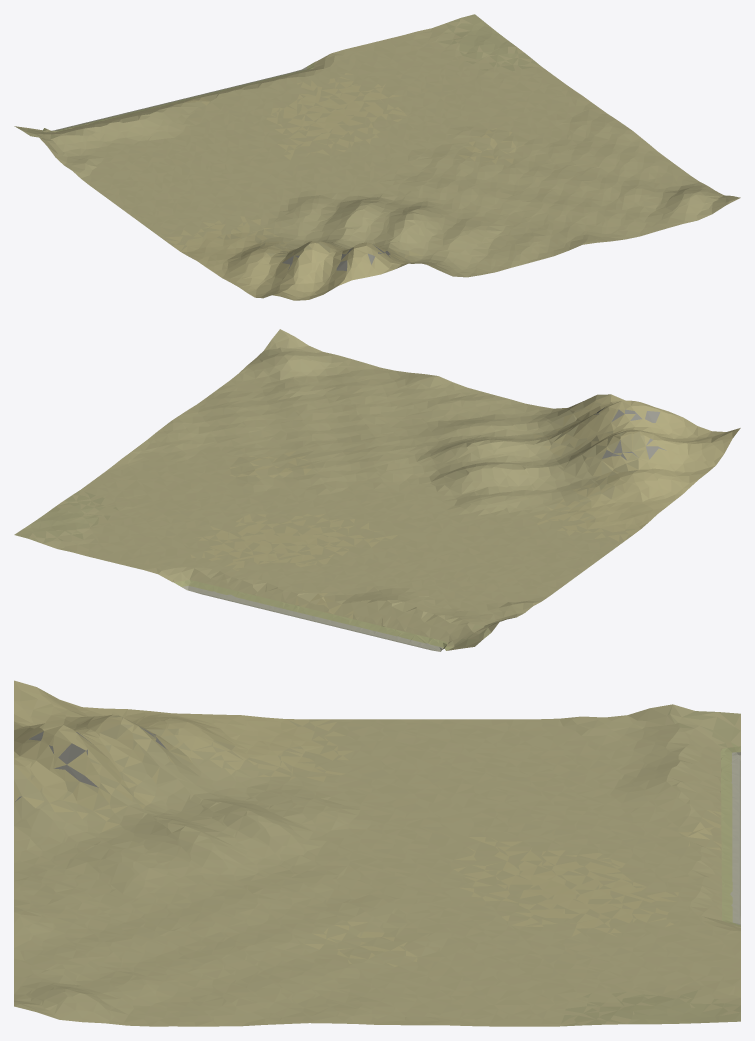
File: Ground_1_-1.glb
3 renders of one model, top to bottom at view 1: azimuth 30°, elevation 25°; view 2: azimuth 150°, elevation 25°; view 3: azimuth 270°, elevation 25°, orthographic. The views are drawn at different scales.
Parts seen in each view (by area): view 1: Ground_1_-1; view 2: Ground_1_-1; view 3: Ground_1_-1.
Part boxes in pixels (<box>): Ground_1_-1: <box>14,14,740,300</box>; Ground_1_-1: <box>14,329,740,651</box>; Ground_1_-1: <box>14,680,740,1026</box>.
Bounding box in the file's own units: 768 × 83.31 × 768.
